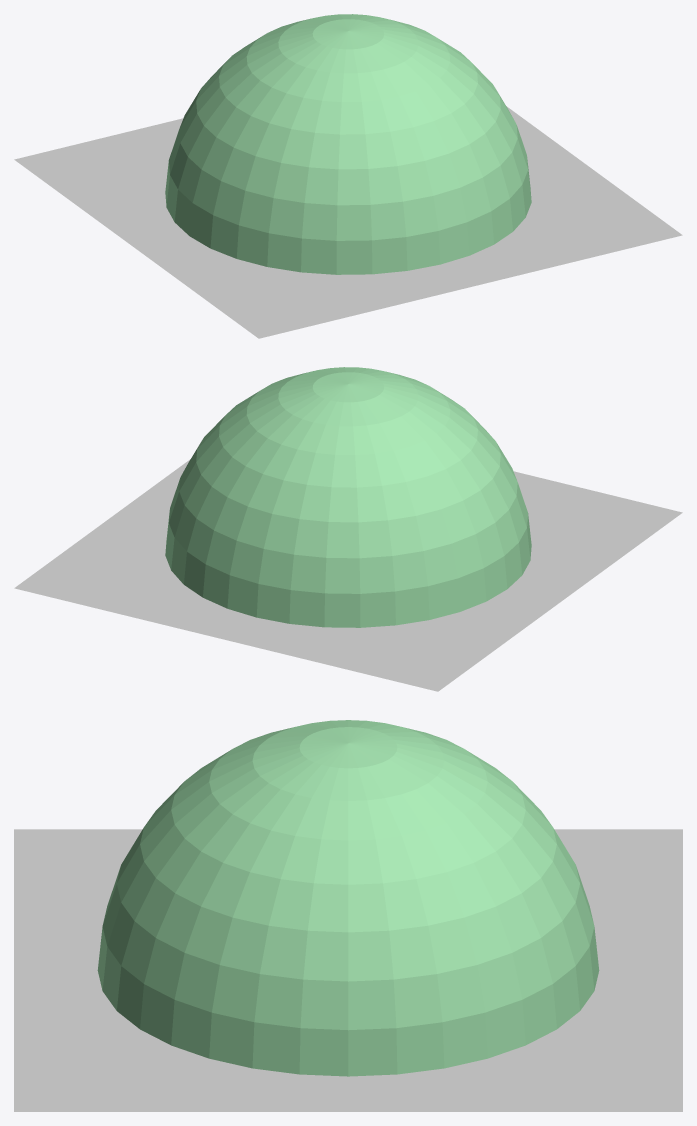
Rendered from SkyDome.dae.
3 renders of one model, top to bottom at view 1: azimuth 30°, elevation 25°; view 2: azimuth 150°, elevation 25°; view 3: azimuth 270°, elevation 25°, orthographic. The views are drawn at different scales.
Visible parts, largest first — view 1: Sphere, Plane; view 2: Sphere, Plane; view 3: Sphere, Plane.
Boxes of the visible parts, x1=… form: Sphere: x1=165, y1=14, x2=531, y2=274; Plane: x1=14, y1=106, x2=682, y2=338; Sphere: x1=165, y1=367, x2=531, y2=627; Plane: x1=14, y1=459, x2=682, y2=691; Sphere: x1=97, y1=720, x2=599, y2=1076; Plane: x1=14, y1=829, x2=682, y2=1111.
Bounding box in the file's own units: 12.27 × 12.27 × 4.6.
